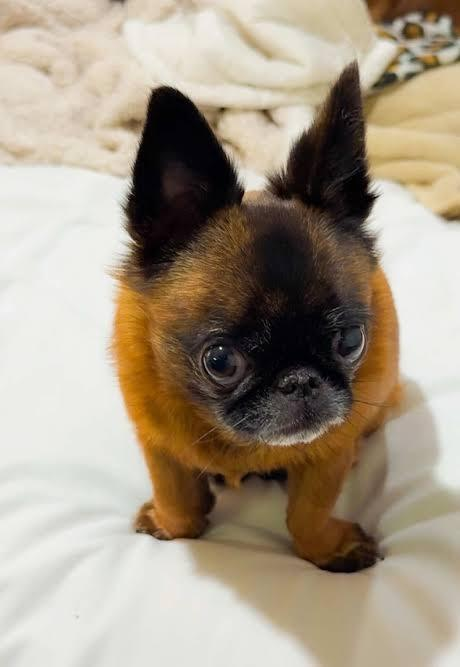adult_dog: (108, 58, 406, 574)
